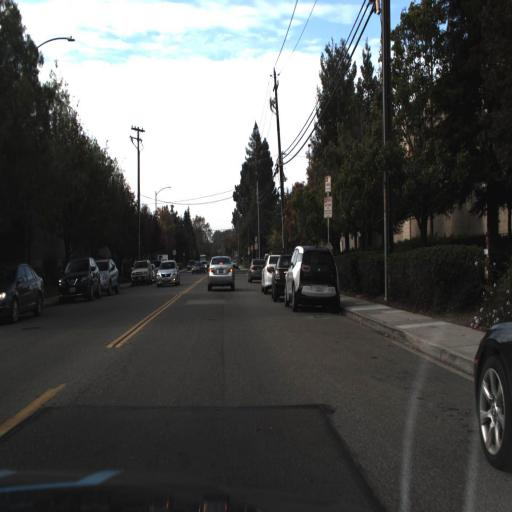car: (468, 315, 512, 470), (284, 242, 342, 313), (0, 260, 46, 326), (55, 254, 101, 305), (88, 257, 120, 293), (206, 254, 234, 291), (155, 257, 180, 290), (129, 259, 154, 283)
